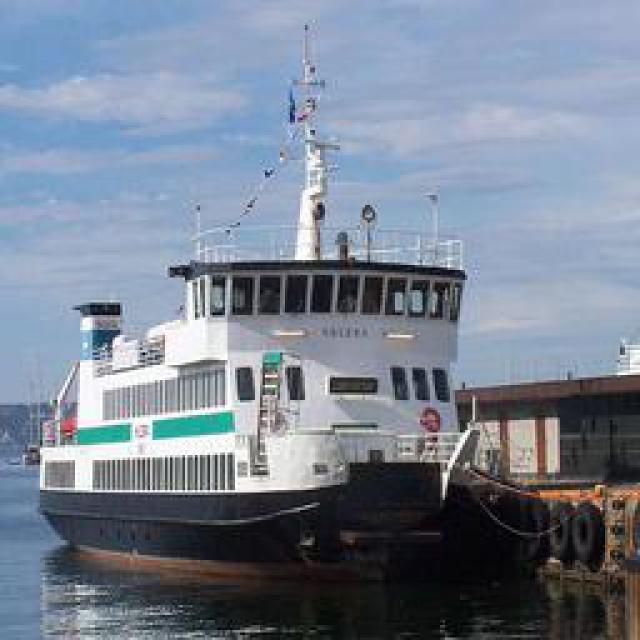Ship: (34, 27, 477, 575)
